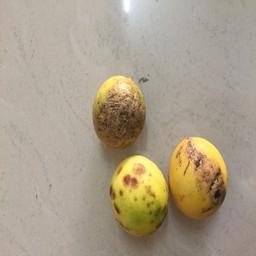Bad_lime: (171, 128, 229, 221), (107, 157, 169, 238), (94, 68, 149, 145)
